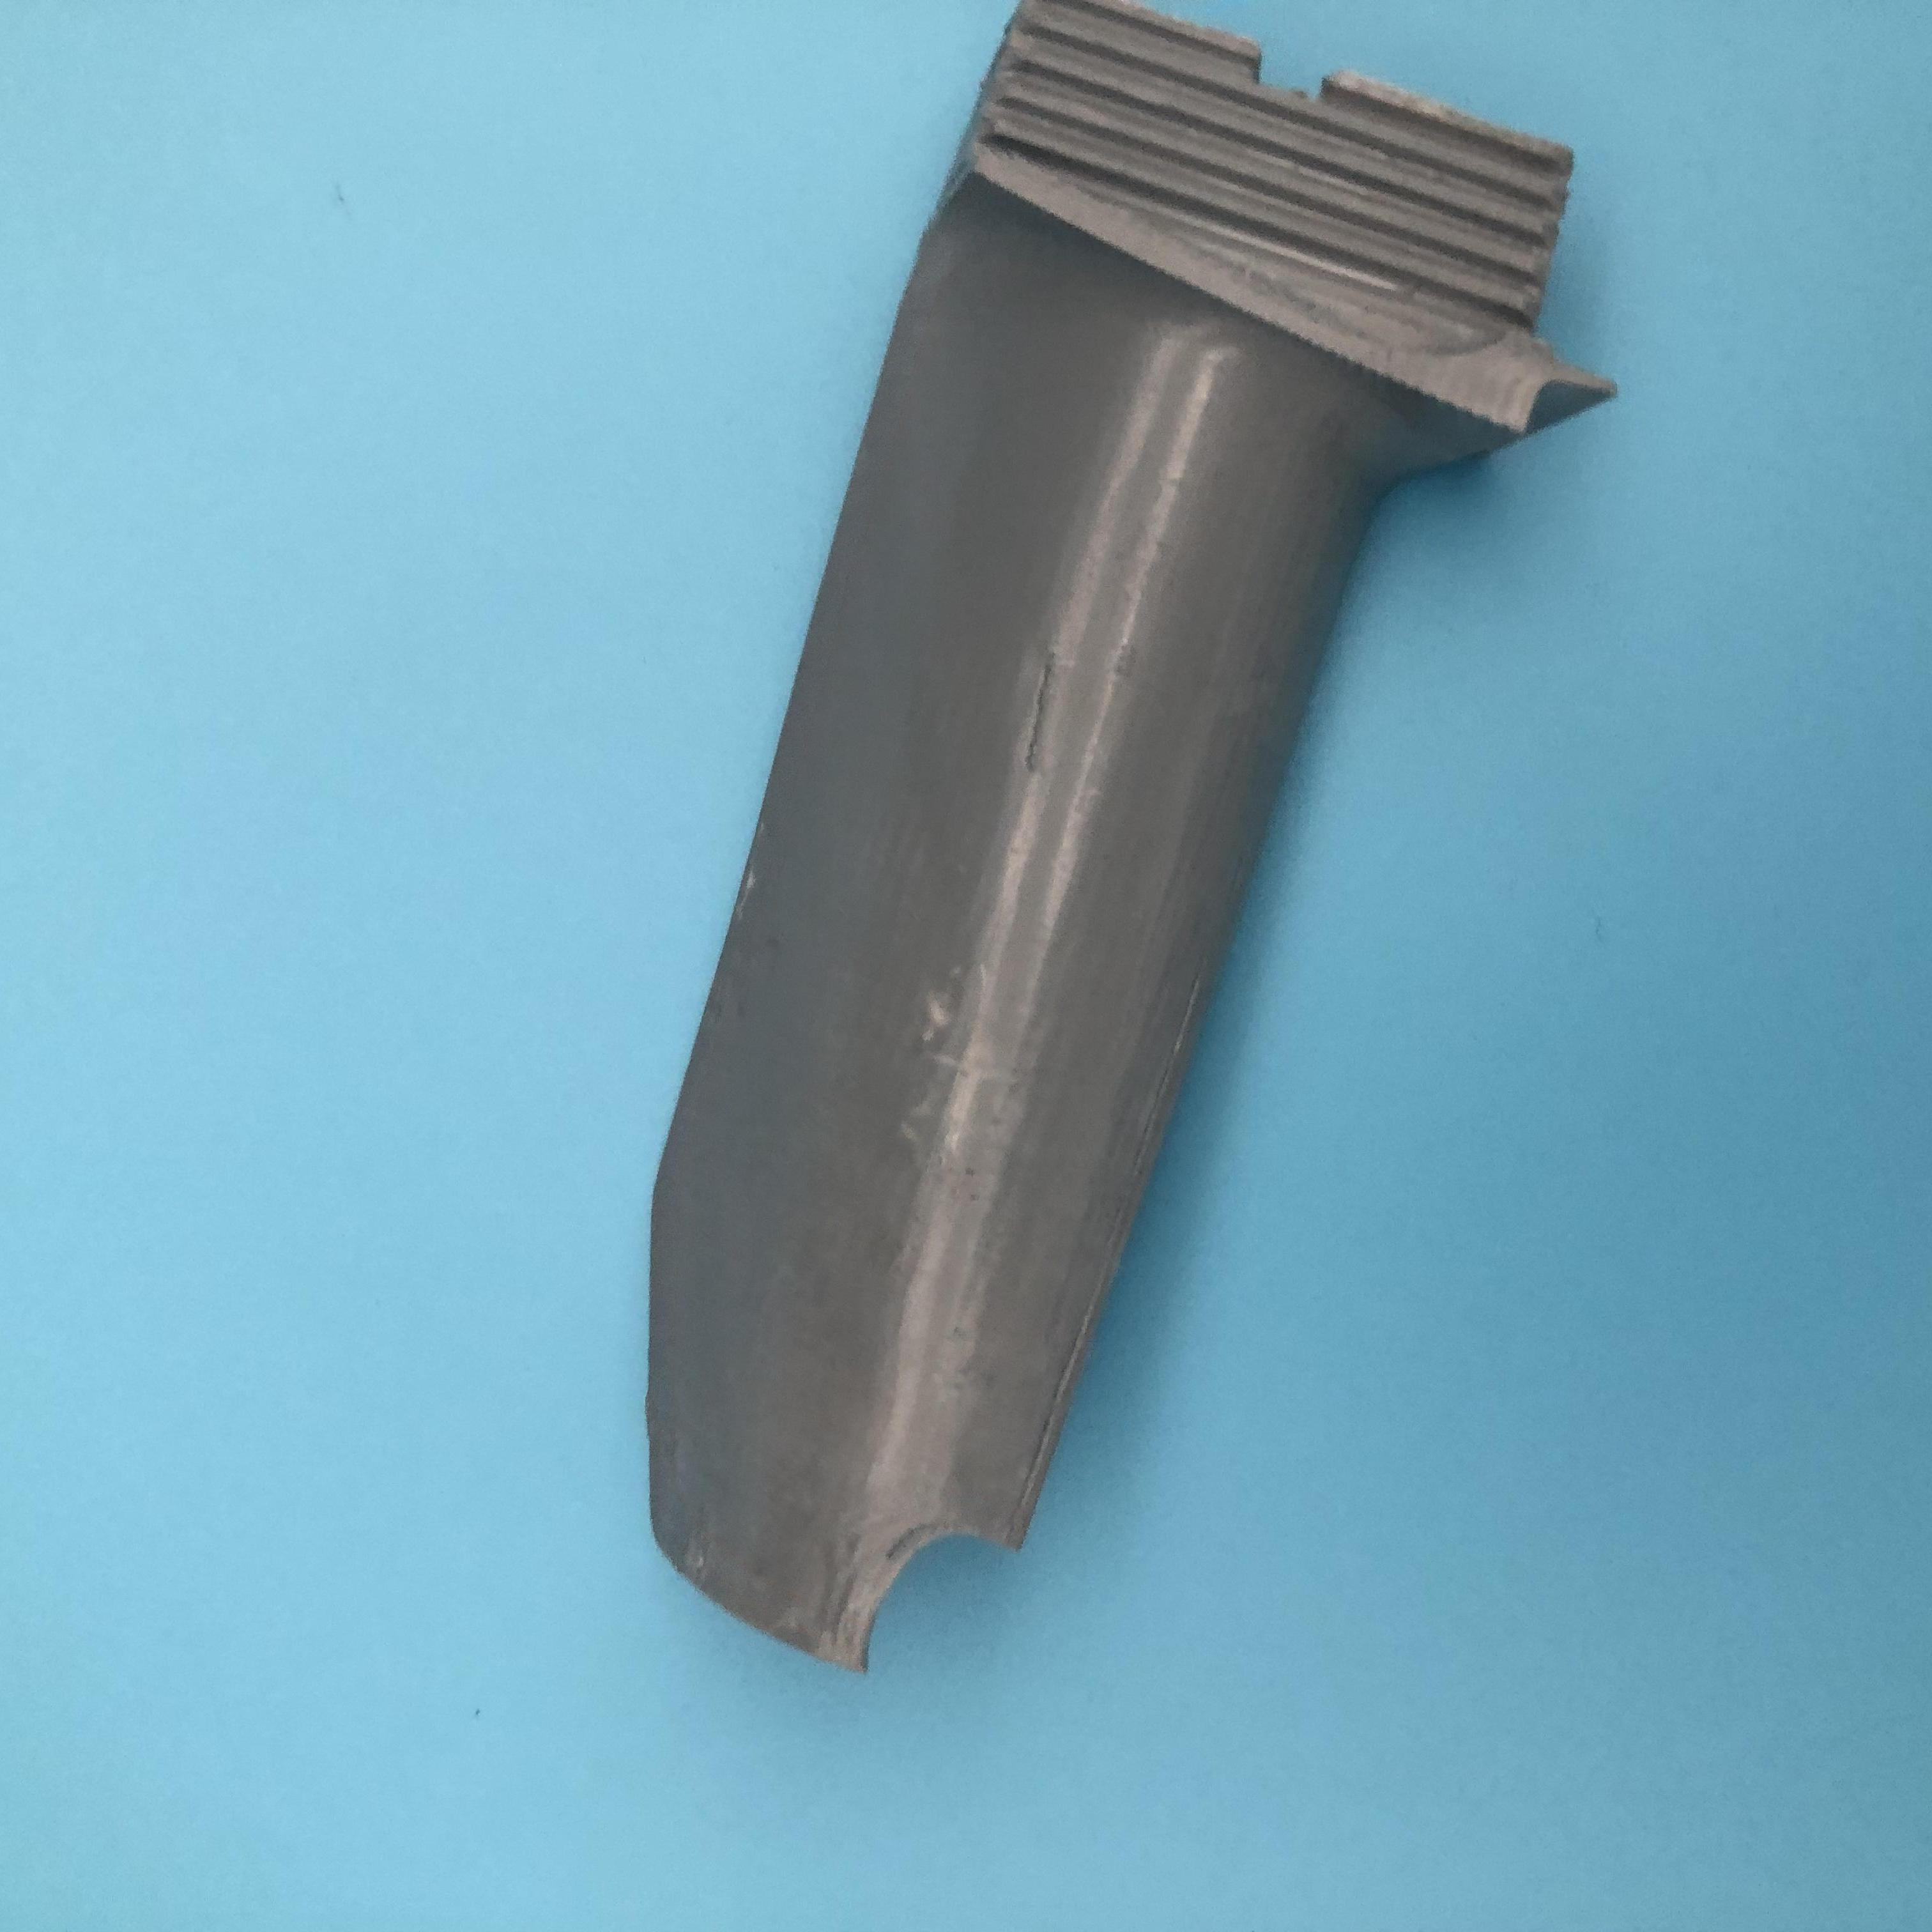fracture: (855, 1479, 1021, 1670)
